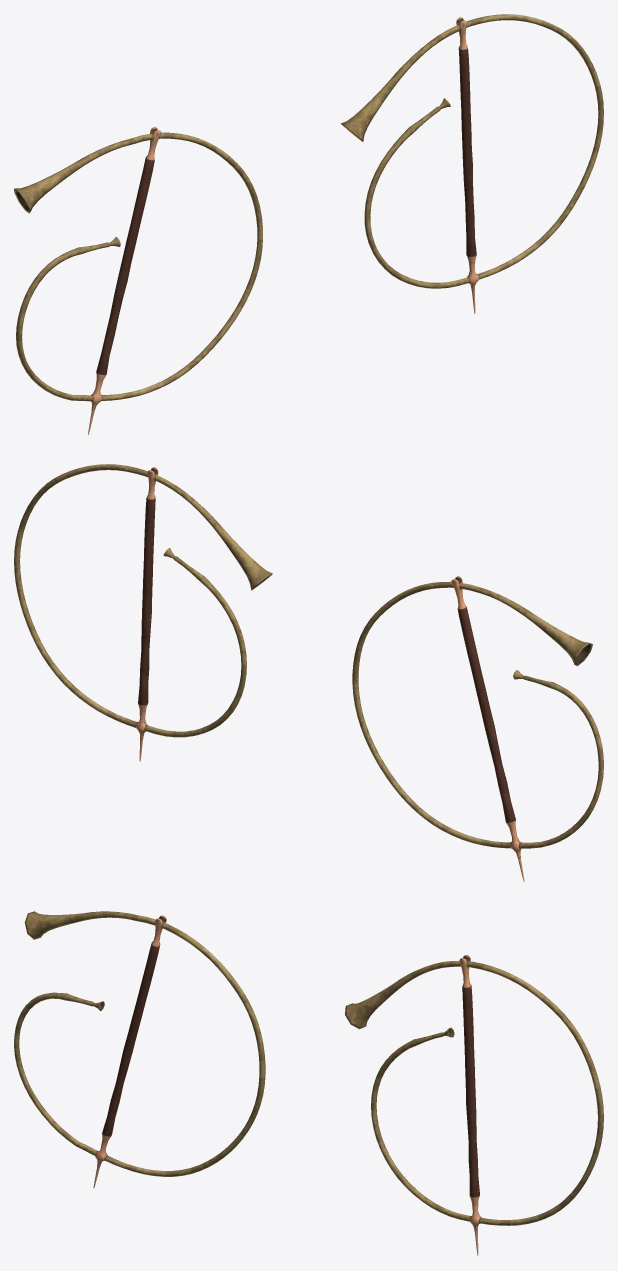
The model's file is roman_instruments_of_war.glb.
3 views of the same model, one above another, from view 1: azimuth 30°, elevation 25°; view 2: azimuth 150°, elevation 25°; view 3: azimuth 330°, elevation 25° (orthographic).
Parts seen in each view (by area): view 1: SM_cornuBent_1, SM_cornu_0; view 2: SM_cornuBent_1, SM_cornu_0; view 3: SM_cornu_0, SM_cornuBent_1.
Boxes of the visible parts, x1,y1,x2,y2 form: SM_cornuBent_1: [14, 127, 262, 435]; SM_cornu_0: [341, 14, 603, 313]; SM_cornuBent_1: [352, 576, 603, 881]; SM_cornu_0: [14, 464, 272, 761]; SM_cornu_0: [345, 955, 603, 1255]; SM_cornuBent_1: [14, 911, 265, 1188].
Size of the model in its own units: 2.08 by 1.1 by 0.1456.
1 material, 1 textured.
